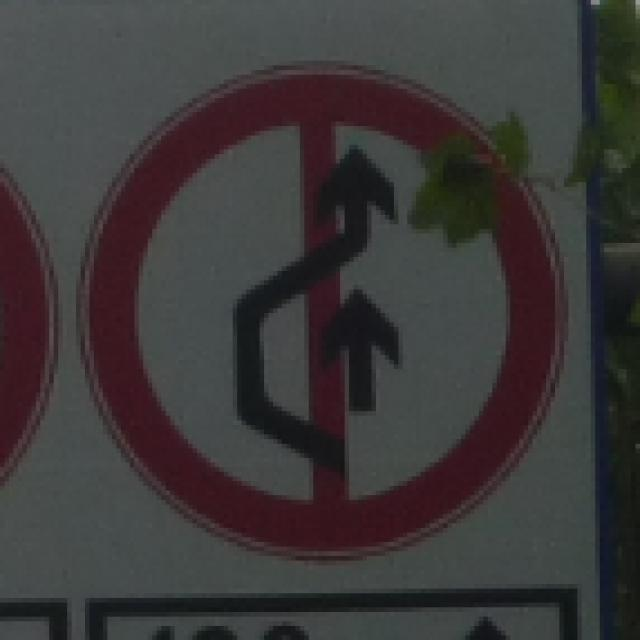Not that Direction: (79, 65, 569, 563)
